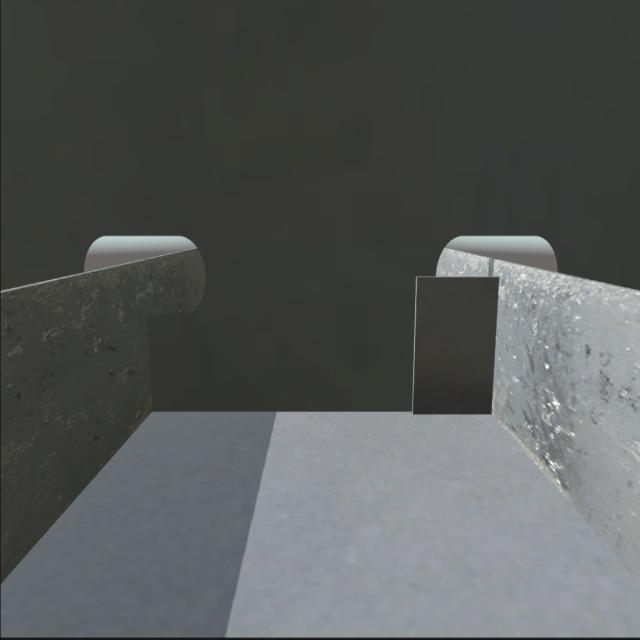fillet_yong_jeop_jang: (147, 402, 495, 422)
longi_yong_jeop_jang: (484, 270, 504, 417), (139, 308, 159, 419)
plate_CP01: (412, 274, 497, 414)
